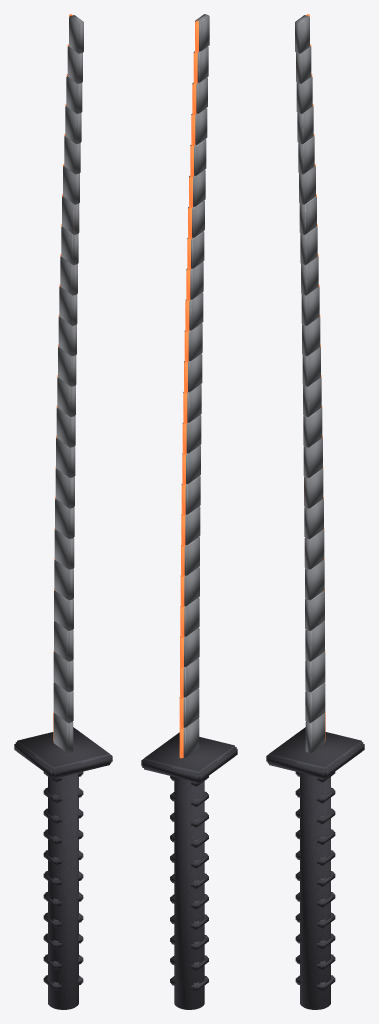
The model's file is SM_Weapon_Katana.glb.
3 renders of one model, left to right at view 1: azimuth 30°, elevation 25°; view 2: azimuth 150°, elevation 25°; view 3: azimuth 330°, elevation 25°, orthographic.
Parts seen in each view (by area): view 1: SM_Weapon_Katana; view 2: SM_Weapon_Katana; view 3: SM_Weapon_Katana.
Part boxes in pixels (x1,y1,x2,y2): SM_Weapon_Katana: (14,14,112,1009); SM_Weapon_Katana: (141,14,237,1009); SM_Weapon_Katana: (266,14,364,1009).
Size of the model in its own units: 0.068 by 1.05 by 0.076.
Materials: 1 (1 with a texture image).
